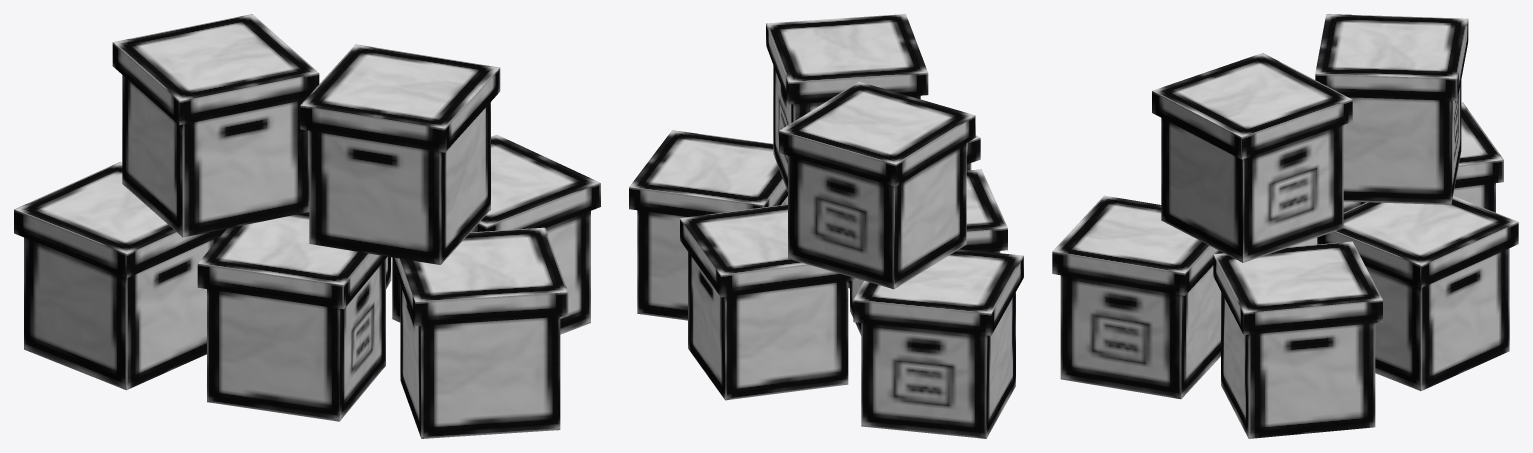
The model's file is boxes.fbx.
3 renders of one model, left to right at view 1: azimuth 30°, elevation 25°; view 2: azimuth 150°, elevation 25°; view 3: azimuth 270°, elevation 25°, orthographic. The views are drawn at different scales.
Visible parts, largest first — view 1: Cube; view 2: Cube; view 3: Cube.
Part boxes in pixels (left/top/right/bottom): Cube: left=14, top=14, right=600, bottom=438; Cube: left=629, top=14, right=1023, bottom=438; Cube: left=1052, top=14, right=1518, bottom=438.
Bounding box in the file's own units: 158 × 90.5 × 148.
